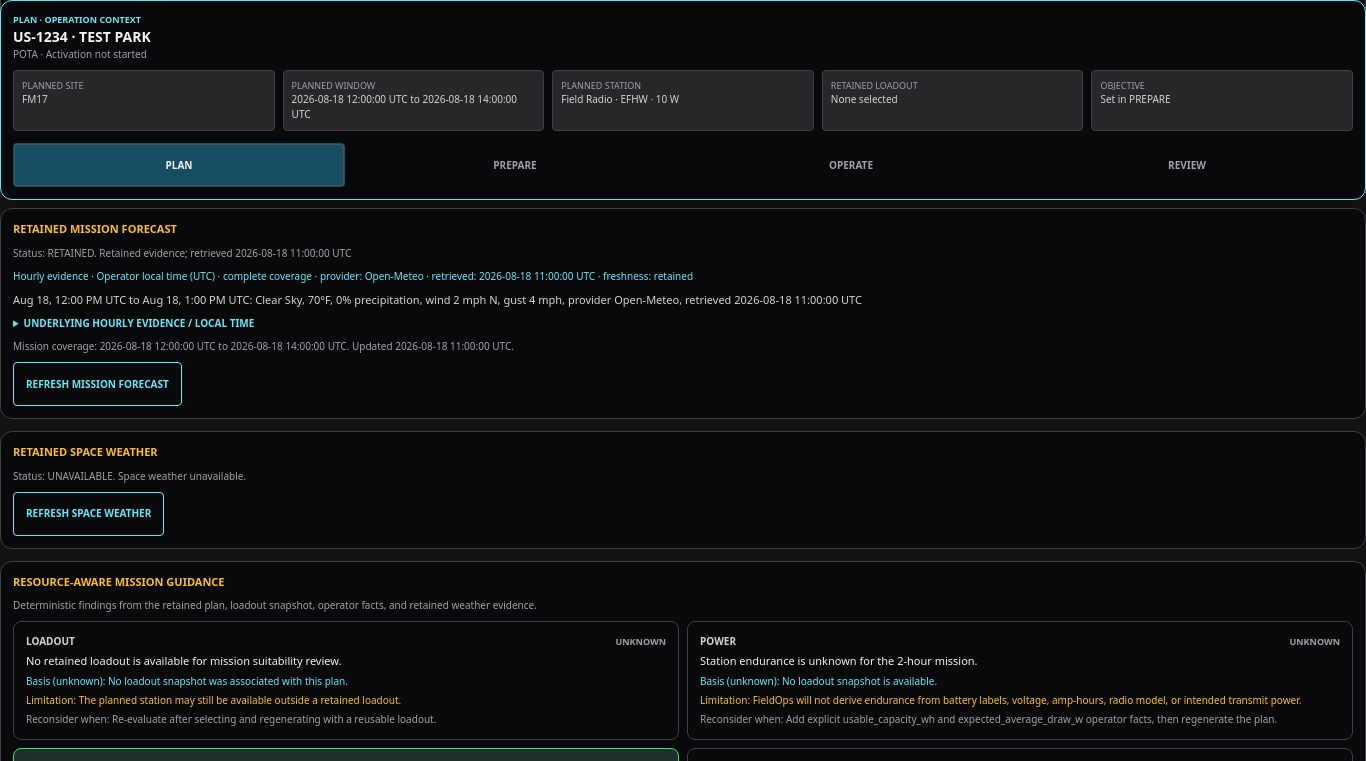
Scenario: SmartDeploy brief rendering › keeps retained evidence visible and marks an explicit failed refresh distinctly
(page scrolled)
Check: the text "Hourly evidence · Operator local time" is shown, box [13,268,693,282]
Check: the text "Clear Sky, 70°F" is shown, box [13,292,862,306]
Click the button "REFRESH MISSION FORECAST": (97, 384) [13,362,182,406]
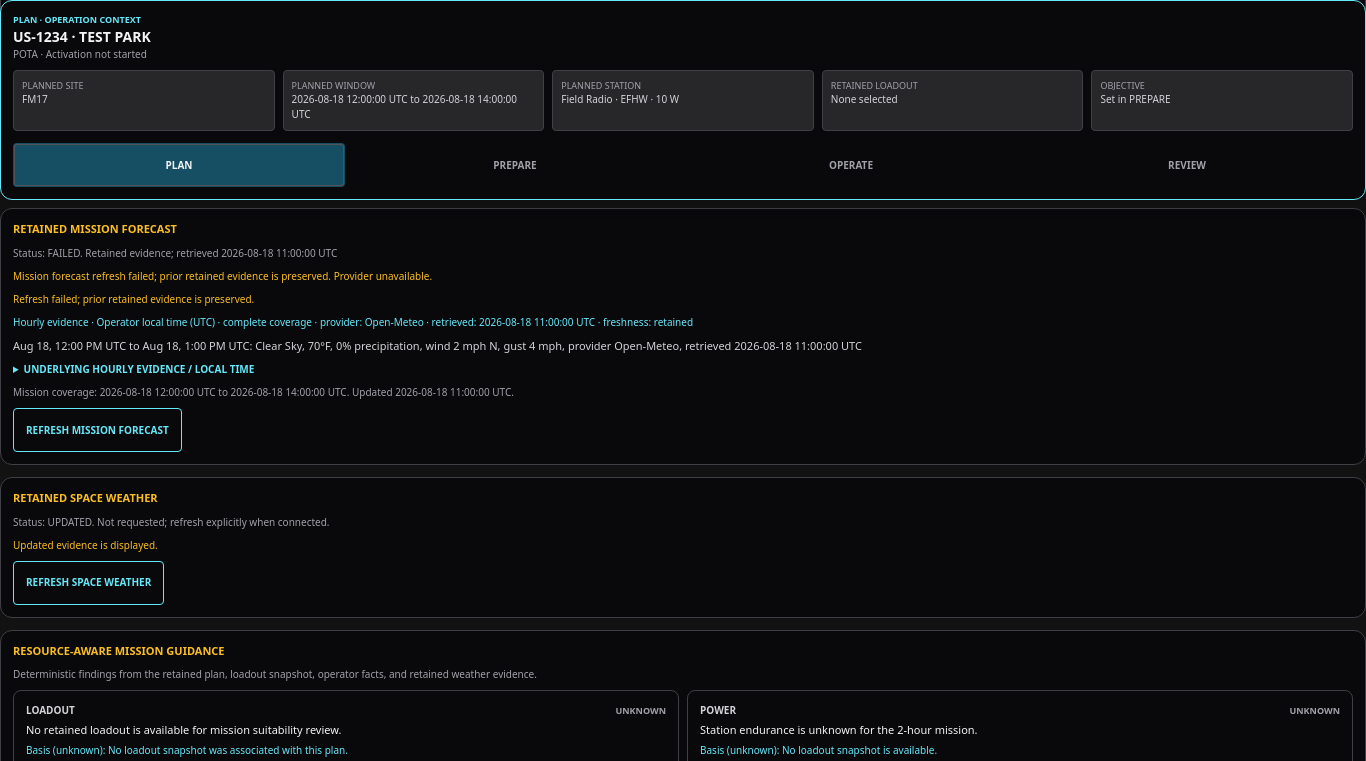
Check: the text "Clear Sky, 70°F" is shown, box [13,338,862,352]
Check: the text "Status: FAILED." is shown, box [13,246,85,260]
Check: the text "Refresh failed; prior retained evidence is preserved." is shown, box [13,292,254,306]
